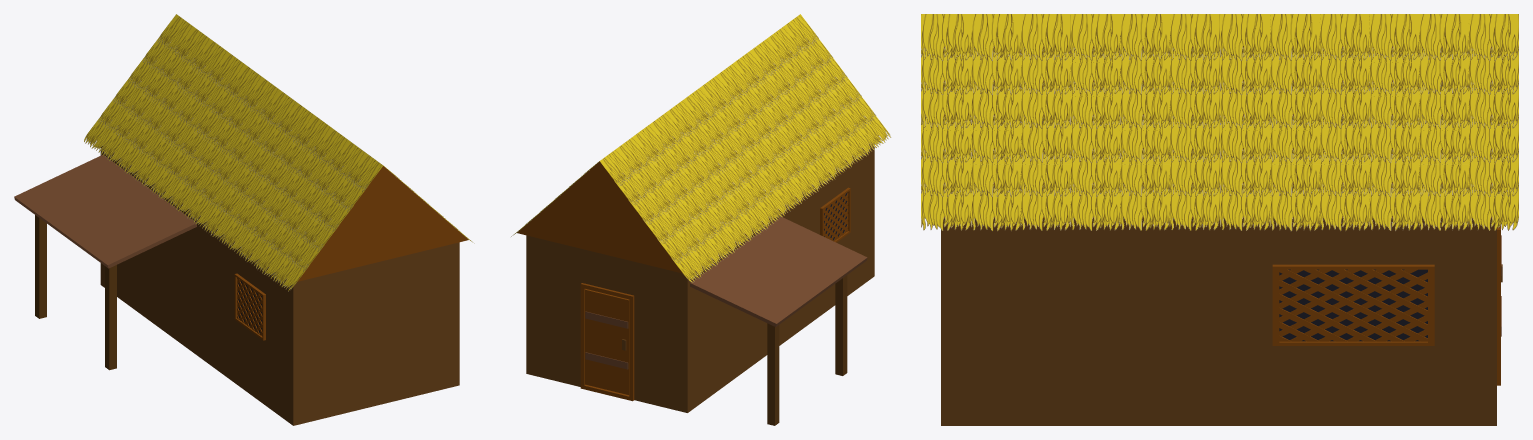
The model's file is хижина1.fbx.
The picture shows the model from 3 angles, left to right: view 1: azimuth 30°, elevation 25°; view 2: azimuth 150°, elevation 25°; view 3: azimuth 270°, elevation 25°; orthographic projection. The views are drawn at different scales.
Parts seen in each view (by area): view 1: Cube.002; view 2: Cube.002; view 3: Cube.002.
Boxes of the visible parts, box(x1,y1,x2,y2) form: Cube.002: box(14, 14, 474, 425); Cube.002: box(511, 14, 891, 425); Cube.002: box(921, 14, 1518, 425).
Bounding box in the file's own units: 2.89 × 2.56 × 3.87.
